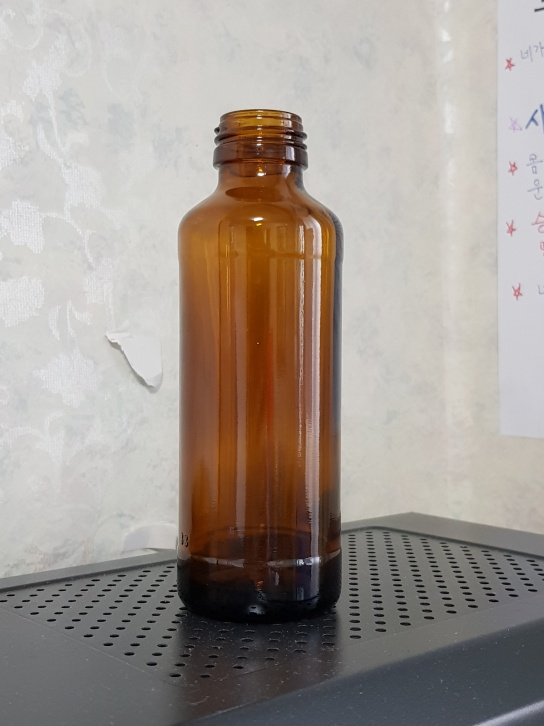Glass: (175, 106, 349, 625)
